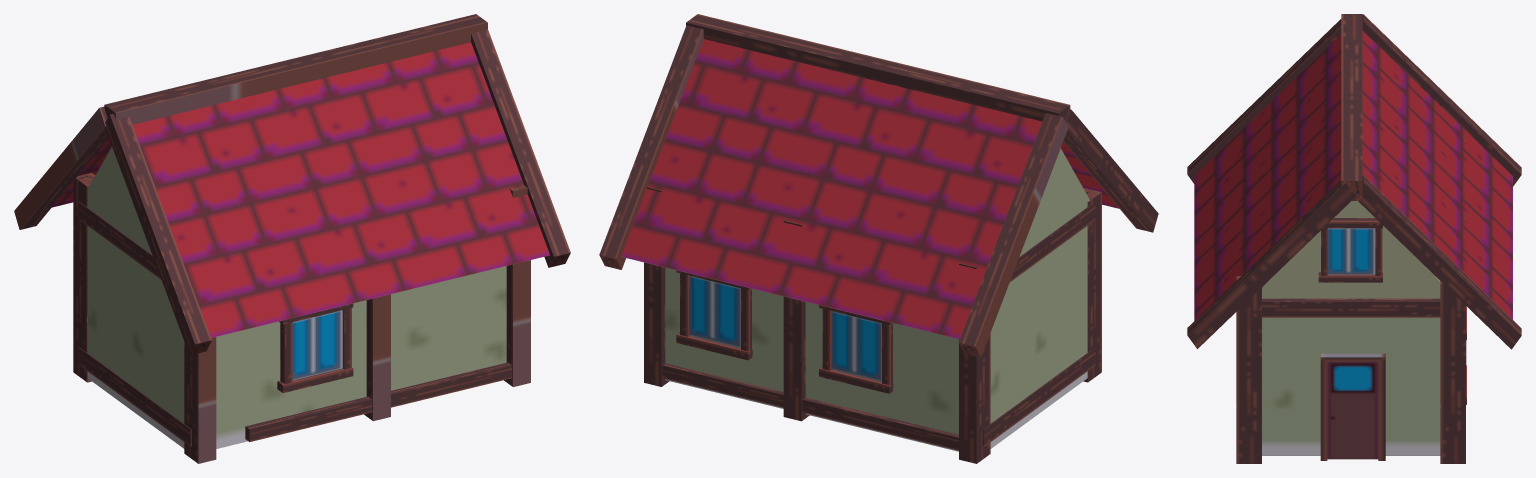
The model's file is Orfanato.fbx.
3 renders of one model, left to right at view 1: azimuth 30°, elevation 25°; view 2: azimuth 150°, elevation 25°; view 3: azimuth 270°, elevation 25°, orthographic. The views are drawn at different scales.
Parts seen in each view (by area): view 1: Orfanato; view 2: Orfanato; view 3: Orfanato.
Boxes of the visible parts, <box> form: Orfanato: <box>14,14,570,463</box>; Orfanato: <box>599,14,1158,463</box>; Orfanato: <box>1187,14,1521,463</box>.
Bounding box in the file's own units: 1088 × 910 × 870.
